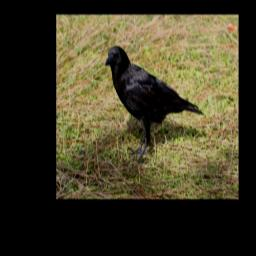Crow: (106, 45, 206, 166)
